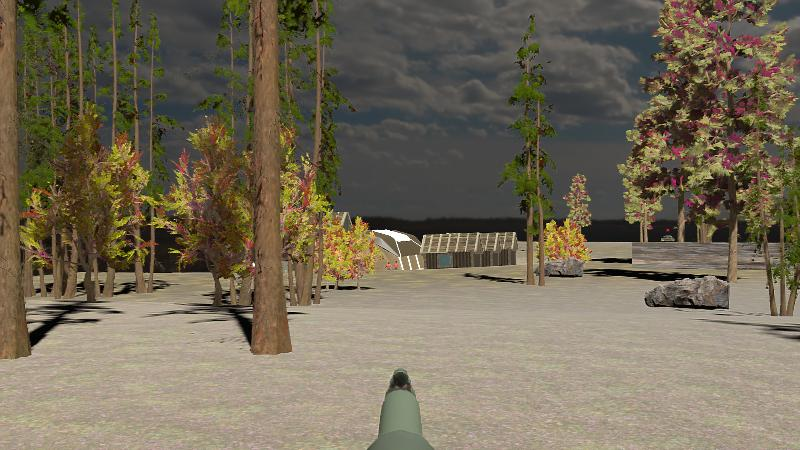House: (419, 231, 484, 269), (482, 232, 503, 267), (500, 232, 518, 265)
